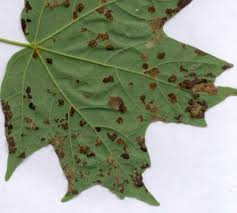Diseased_Leaves: (81, 123, 144, 191), (181, 76, 218, 98), (146, 6, 166, 41), (90, 30, 114, 54), (109, 97, 131, 114), (7, 101, 13, 144), (26, 85, 33, 108), (102, 75, 116, 84), (75, 3, 81, 20)
